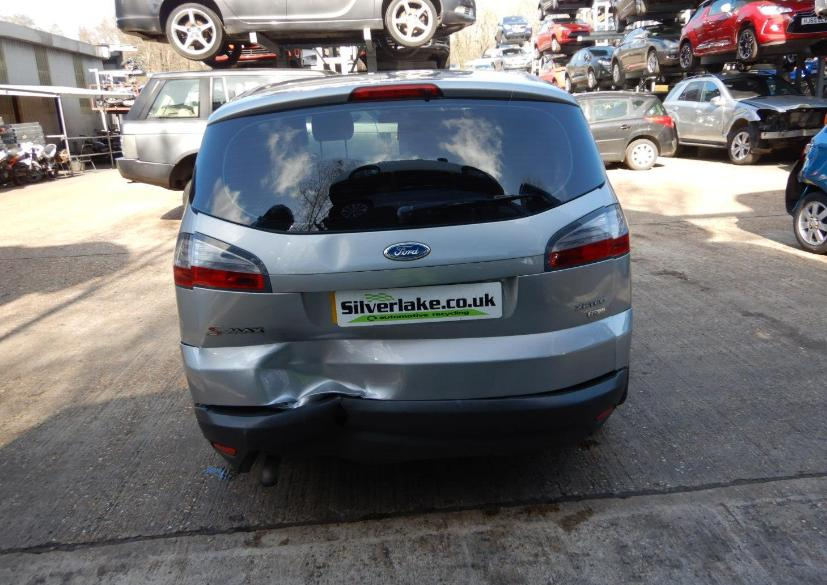Back-bumper: (196, 371, 627, 473)
Back-windshield: (190, 101, 603, 235)
License-plate: (331, 282, 502, 325)
Quarter-panel: (176, 285, 211, 405), (613, 252, 632, 371), (179, 202, 198, 232), (600, 178, 620, 205)
Roof: (207, 71, 576, 125)
Tail-light: (544, 203, 630, 272), (175, 233, 272, 293)
Trunk: (193, 188, 615, 406)
